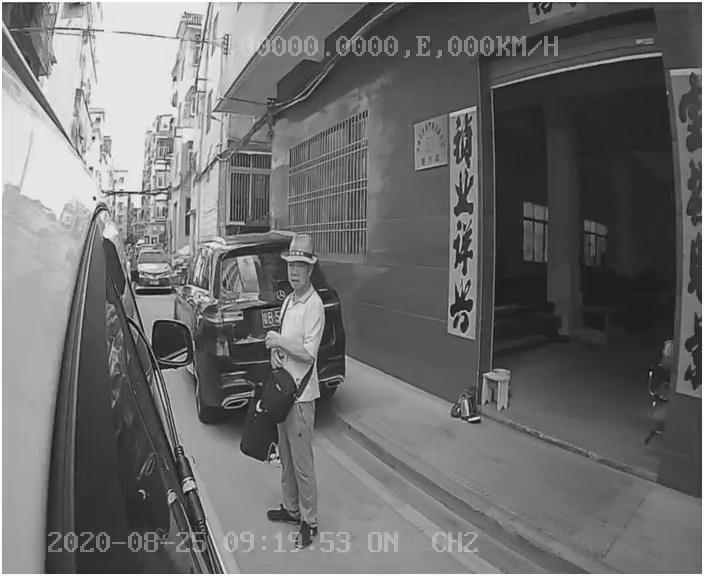person: (252, 242, 350, 531)
